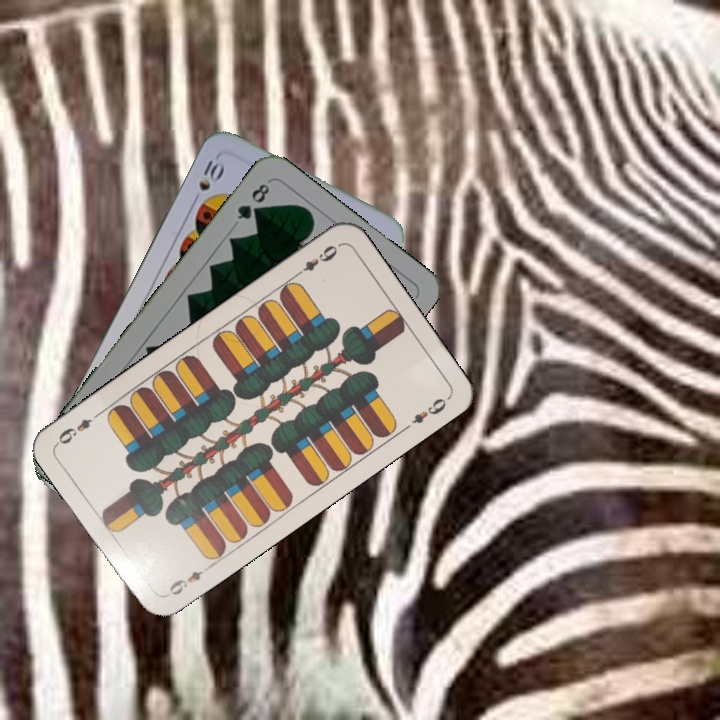E9: (291, 240, 343, 280), (161, 561, 214, 598)
G8: (232, 179, 273, 223)
S10: (194, 155, 227, 194)
